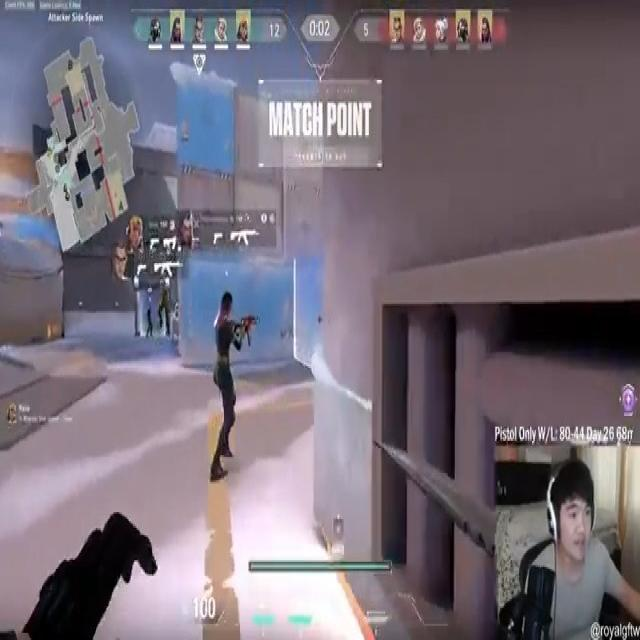ally: (204, 291, 258, 488), (157, 274, 172, 338), (146, 302, 152, 338)
